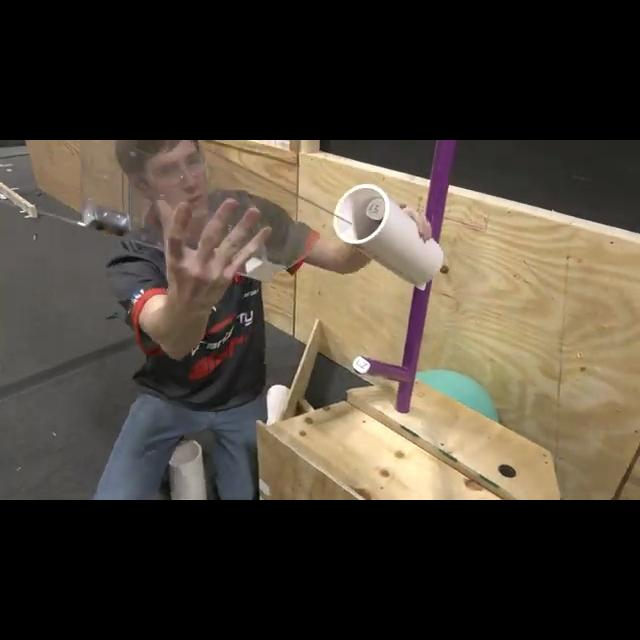CORAL: (331, 182, 445, 290), (168, 440, 208, 500)
